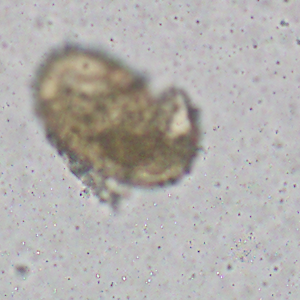Fasciola_hepatica_egg: (29, 40, 200, 188)
